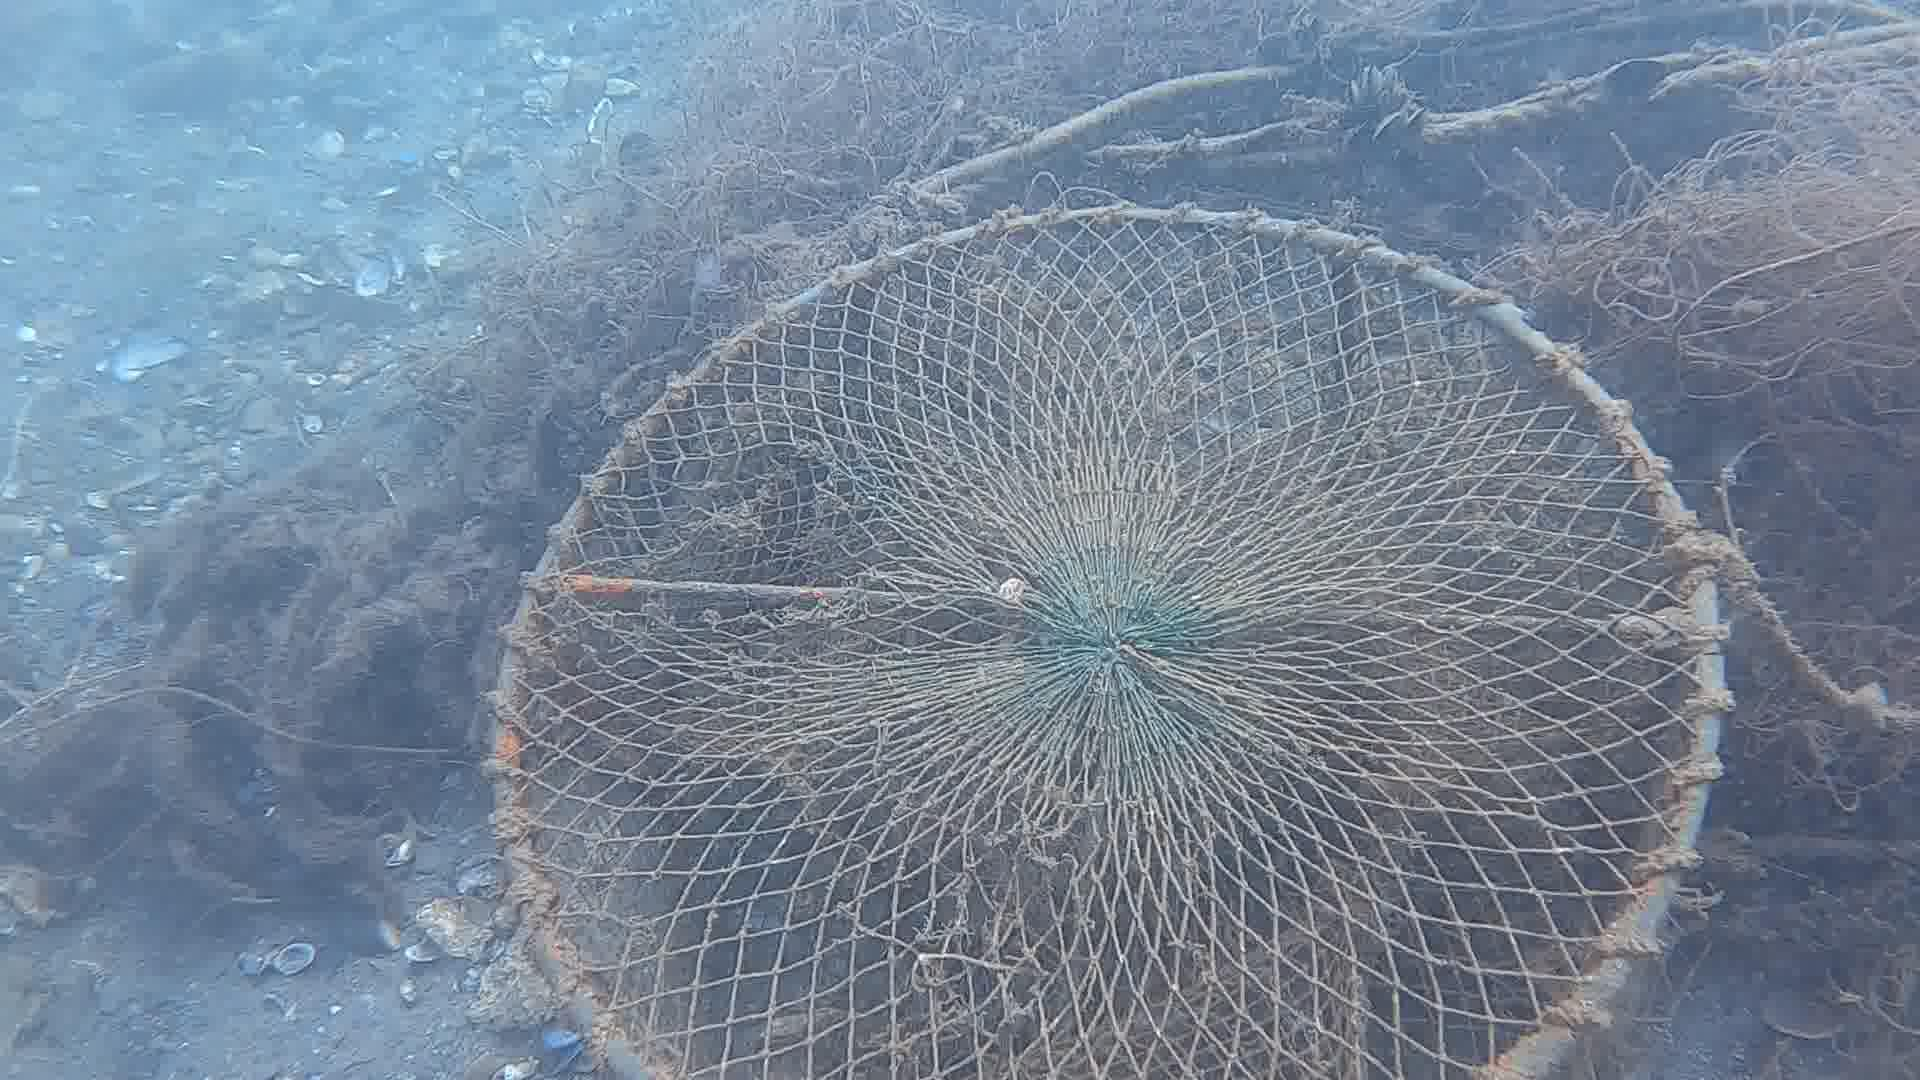circular fish trap: (480, 198, 1734, 1080)
